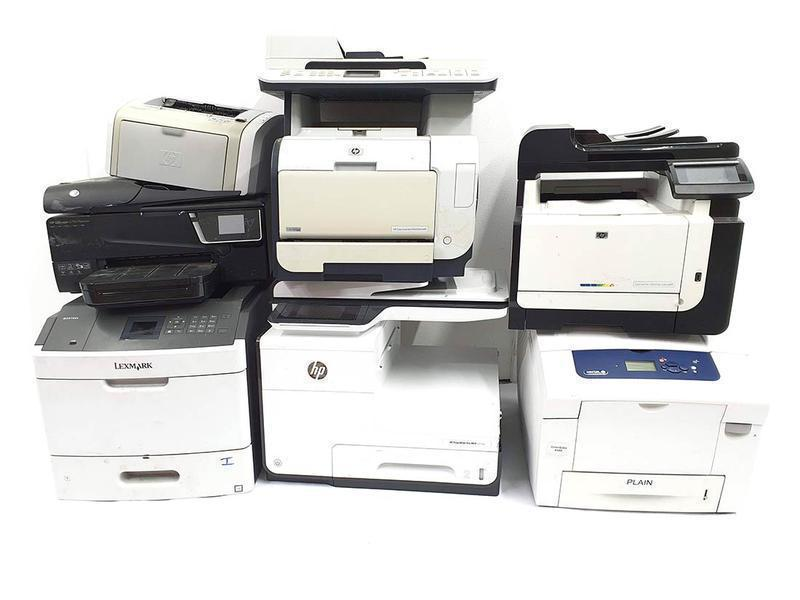printer: (507, 118, 751, 338), (512, 324, 766, 524), (33, 295, 269, 509), (255, 306, 514, 500), (267, 132, 484, 285), (34, 178, 279, 311), (99, 82, 280, 197)
